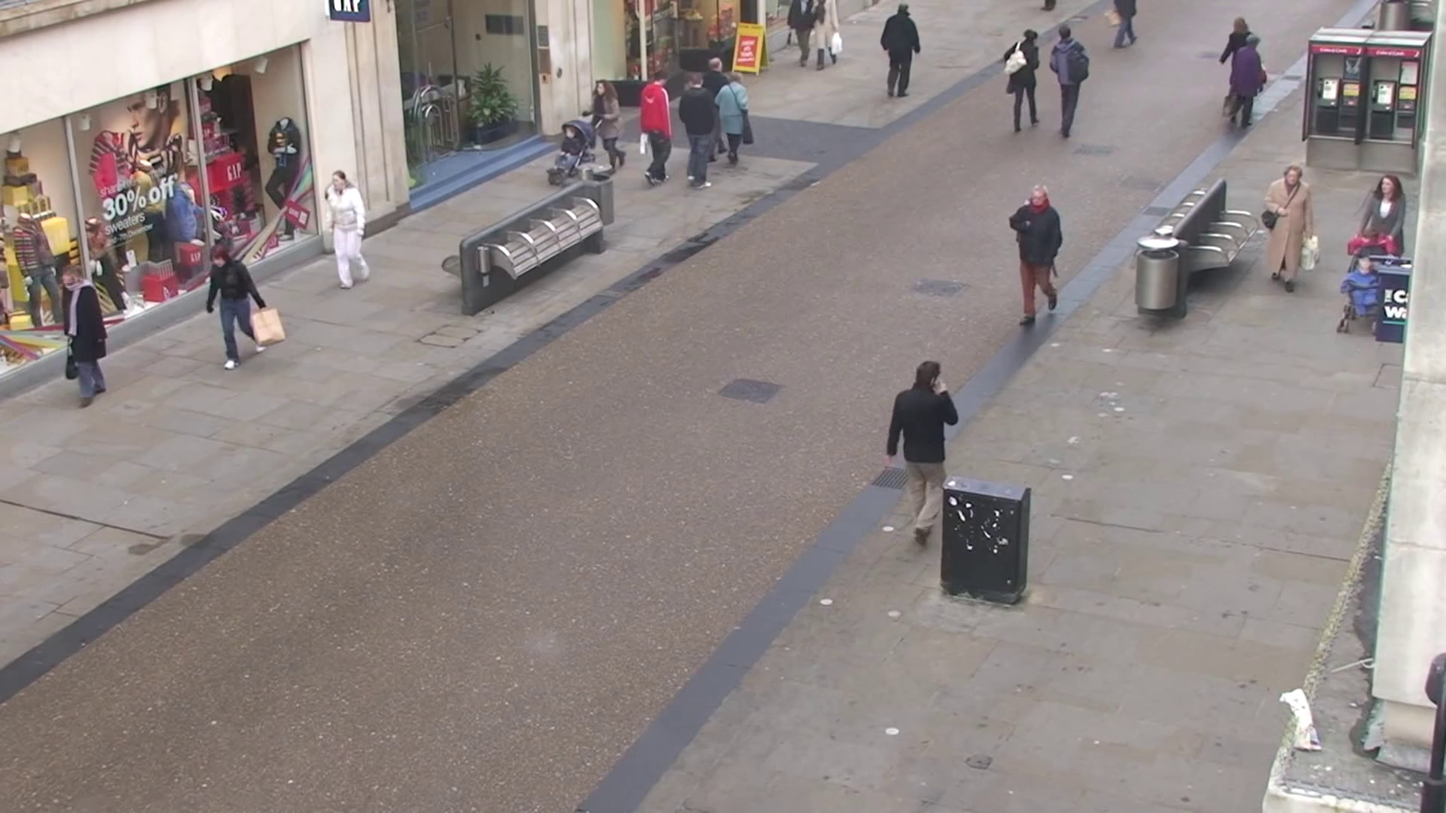person: (1335, 172, 1420, 344), (886, 360, 962, 547), (211, 247, 279, 368), (1008, 184, 1064, 327), (63, 264, 111, 406), (1261, 163, 1313, 290), (322, 169, 370, 289), (1221, 18, 1268, 133), (678, 68, 721, 190), (1050, 23, 1092, 141), (637, 69, 673, 185), (711, 69, 751, 166), (880, 5, 921, 99), (1003, 33, 1040, 135), (589, 78, 624, 175)
